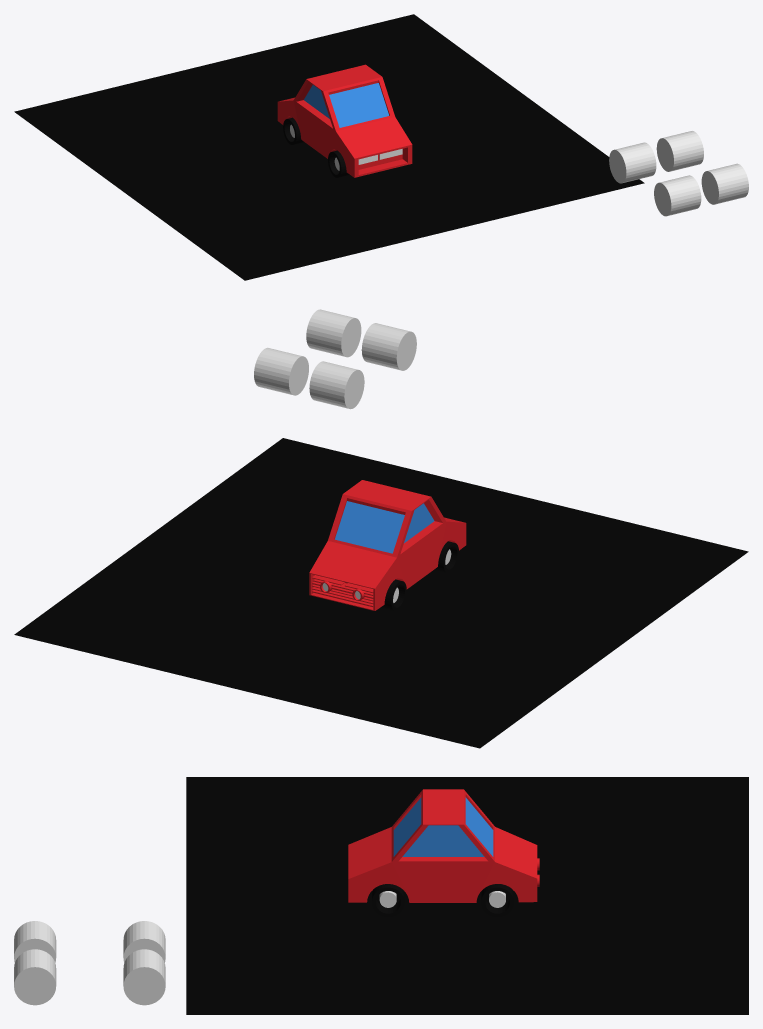
File: CarModel.fbx
The picture shows the model from 3 angles, top to bottom: view 1: azimuth 30°, elevation 25°; view 2: azimuth 150°, elevation 25°; view 3: azimuth 270°, elevation 25°; orthographic projection. The views are drawn at different scales.
Parts seen in each view (by area): view 1: Plane, Cube, Cylinder, Cylinder.001; view 2: Plane, Cube, Cylinder, Cylinder.001; view 3: Plane, Cube, Cylinder, Cylinder.001.
Part boxes in pixels (x1,y1,x2,y2): Plane: (14, 14, 644, 280); Cube: (277, 64, 412, 177); Cylinder: (609, 131, 748, 216); Cylinder.001: (283, 117, 349, 177); Plane: (14, 438, 748, 748); Cube: (309, 480, 466, 610); Cylinder: (254, 309, 416, 409); Cylinder.001: (380, 541, 458, 611); Plane: (186, 777, 748, 1014); Cube: (348, 789, 539, 902); Cylinder: (14, 921, 165, 1005); Cylinder.001: (372, 884, 513, 916).
Bounding box in the file's own units: 1460 × 243 × 1759.
